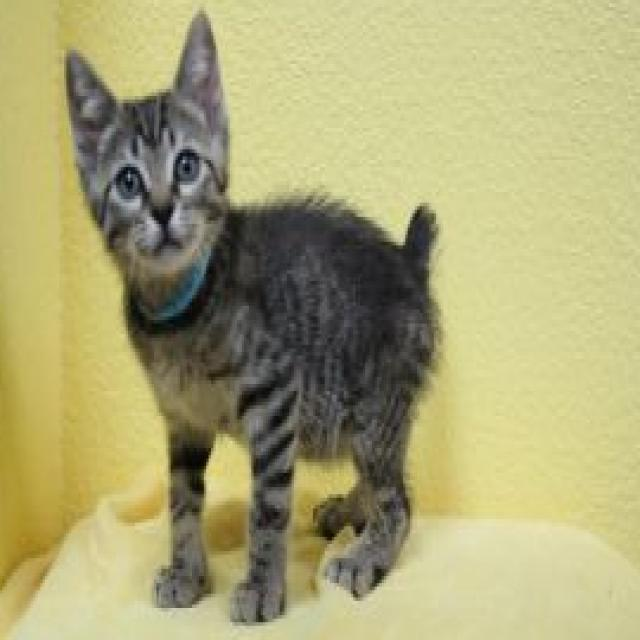American Bobtail: (62, 1, 445, 632)
